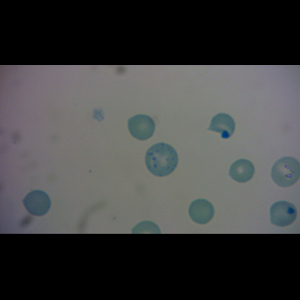erythrocyte: (269, 155, 300, 188), (126, 113, 157, 141), (268, 200, 299, 228), (21, 189, 52, 217), (206, 112, 236, 140), (187, 197, 216, 225), (228, 158, 256, 184)
punctate reticulocyte: (144, 142, 180, 178)
